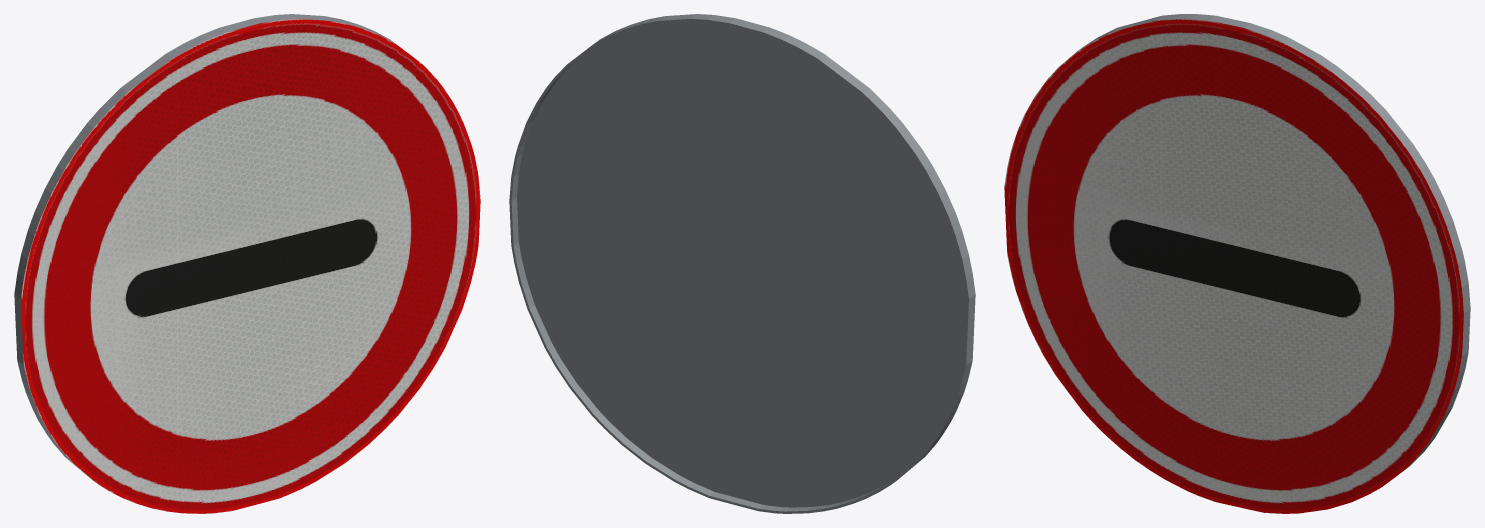
The picture shows the model from 3 angles, left to right: view 1: azimuth 30°, elevation 25°; view 2: azimuth 150°, elevation 25°; view 3: azimuth 330°, elevation 25°; orthographic projection.
Visible parts, largest first — view 1: cat_f8f8ce6a628169f6; view 2: cat_f8f8ce6a628169f6; view 3: cat_f8f8ce6a628169f6.
Boxes of the visible parts, <box> form: cat_f8f8ce6a628169f6: <box>14,14,480,513</box>; cat_f8f8ce6a628169f6: <box>509,14,975,513</box>; cat_f8f8ce6a628169f6: <box>1004,14,1470,513</box>.
Size of the model in its own units: 0.6 by 0.015 by 0.6.
Materials: 2 (1 with a texture image).
